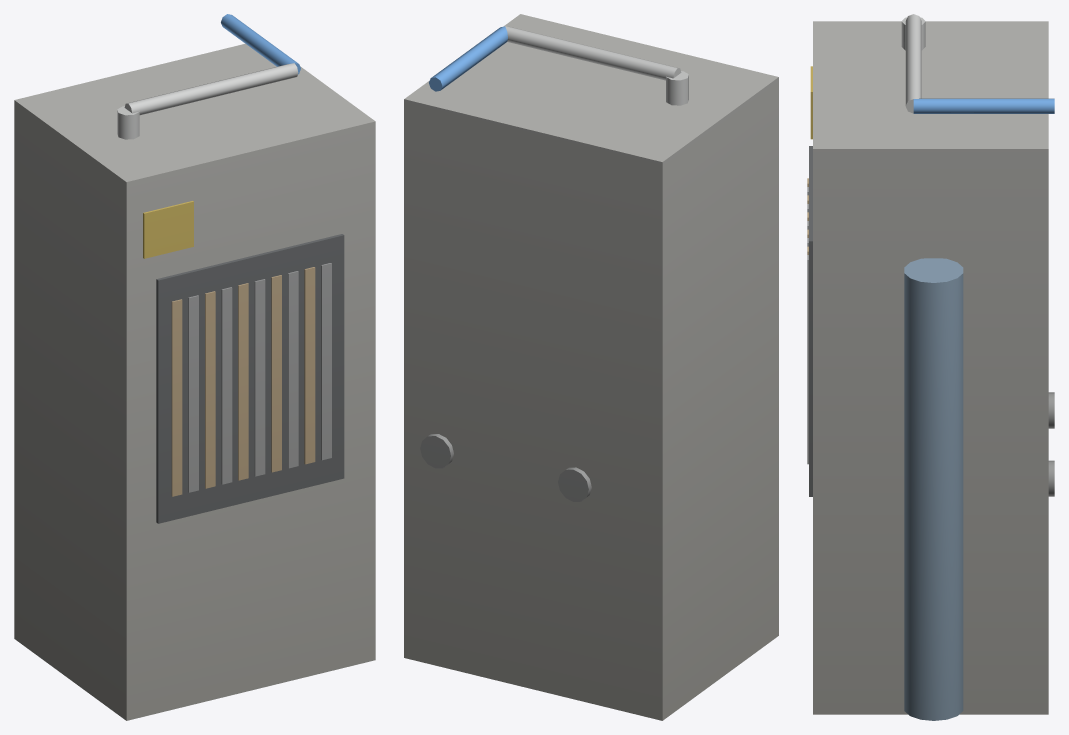
File: o2gen_steel.glb
3 views of the same model, side by side, from view 1: azimuth 30°, elevation 25°; view 2: azimuth 150°, elevation 25°; view 3: azimuth 270°, elevation 25° (orthographic). The views are drawn at different scales.
Visible parts, largest first — view 1: o2gen_steel; view 2: o2gen_steel; view 3: o2gen_steel.
Boxes of the visible parts, x1=… form: o2gen_steel: x1=14, y1=14, x2=375, y2=720; o2gen_steel: x1=404, y1=14, x2=778, y2=720; o2gen_steel: x1=807, y1=14, x2=1054, y2=720.
Size of the model in its own units: 0.895 by 1.64 by 0.614.
